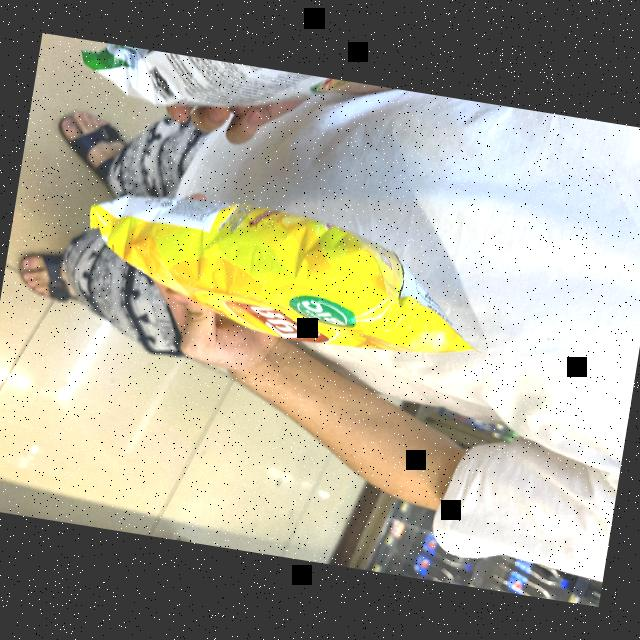snack_bag: (73, 190, 486, 374), (84, 41, 389, 155)
